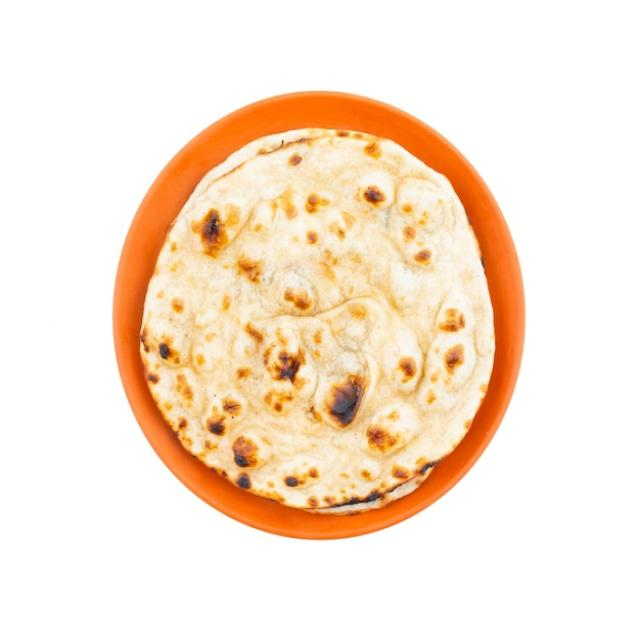ROTI: (137, 132, 494, 504)
